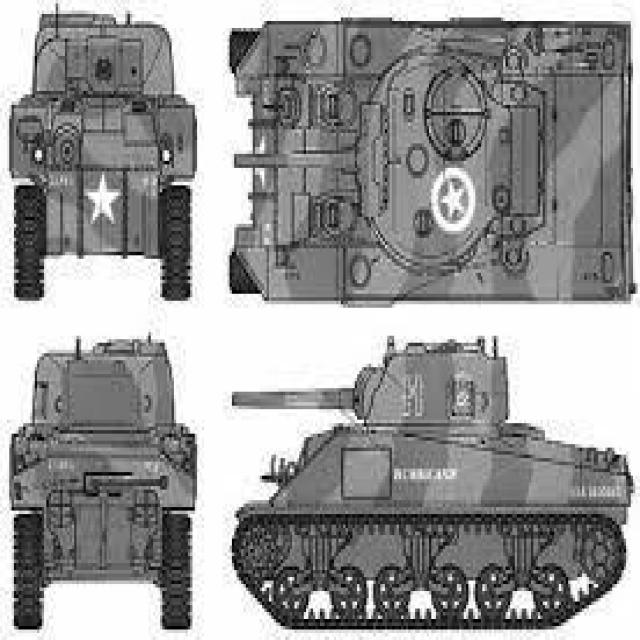Tanks: (222, 16, 636, 316), (223, 337, 633, 628), (7, 7, 211, 297), (12, 330, 202, 628)
